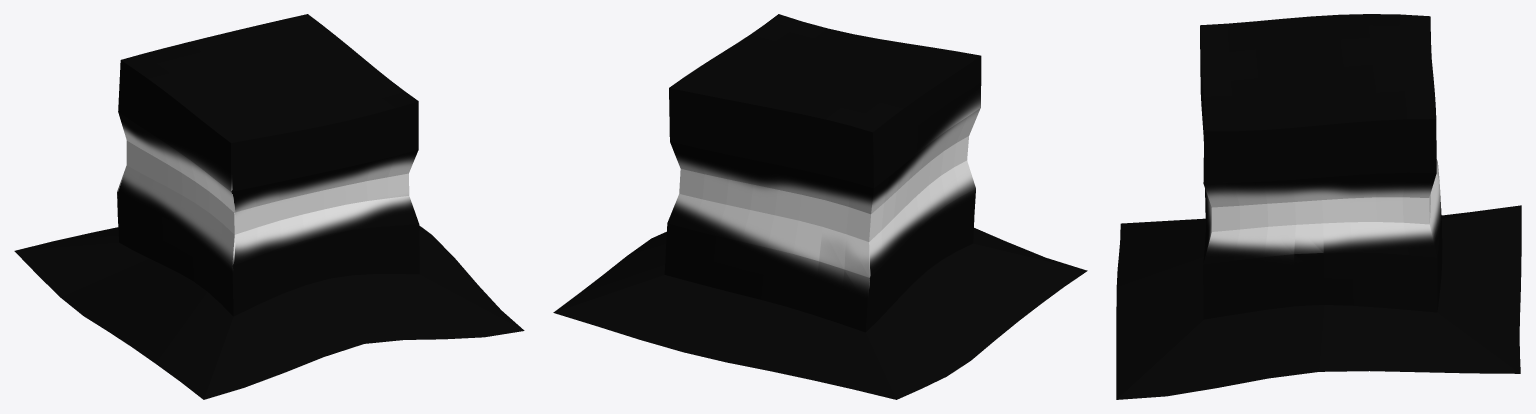
File: tophat.glb
3 views of the same model, side by side, from view 1: azimuth 30°, elevation 25°; view 2: azimuth 150°, elevation 25°; view 3: azimuth 270°, elevation 25° (orthographic). The views are drawn at different scales.
Visible parts, largest first — view 1: tophat; view 2: tophat; view 3: tophat.
Boxes of the visible parts, x1=… form: tophat: x1=14, y1=14, x2=524, y2=399; tophat: x1=553, y1=14, x2=1087, y2=399; tophat: x1=1116, y1=14, x2=1521, y2=399.
Size of the model in its own units: 3.48 by 2.35 by 3.46.
Materials: 1 (1 with a texture image).
